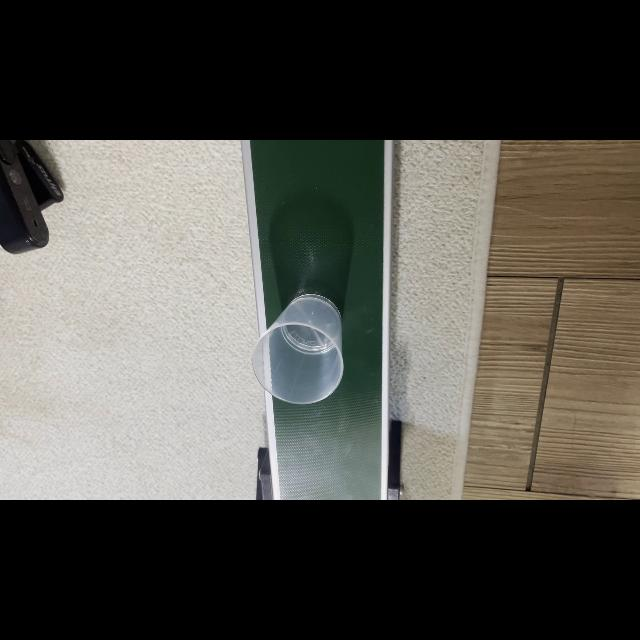clean: (271, 312, 337, 396)
